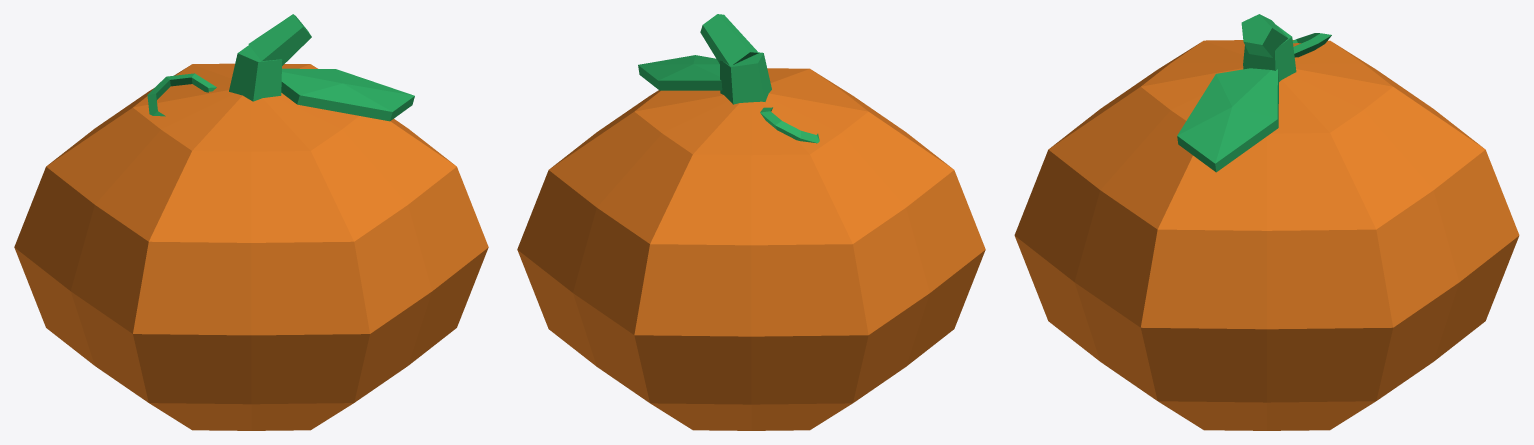
Rendered from pumpkin.glb.
The picture shows the model from 3 angles, left to right: view 1: azimuth 30°, elevation 25°; view 2: azimuth 150°, elevation 25°; view 3: azimuth 270°, elevation 25°; orthographic projection. The views are drawn at different scales.
Visible parts, largest first — view 1: pumpkin-m; view 2: pumpkin-m; view 3: pumpkin-m.
Part boxes in pixels (x1,y1,x2,y2): pumpkin-m: (14,14,488,430); pumpkin-m: (517,14,985,430); pumpkin-m: (1014,14,1519,430).
Bounding box in the file's own units: 0.792 × 0.8117 × 0.9.
